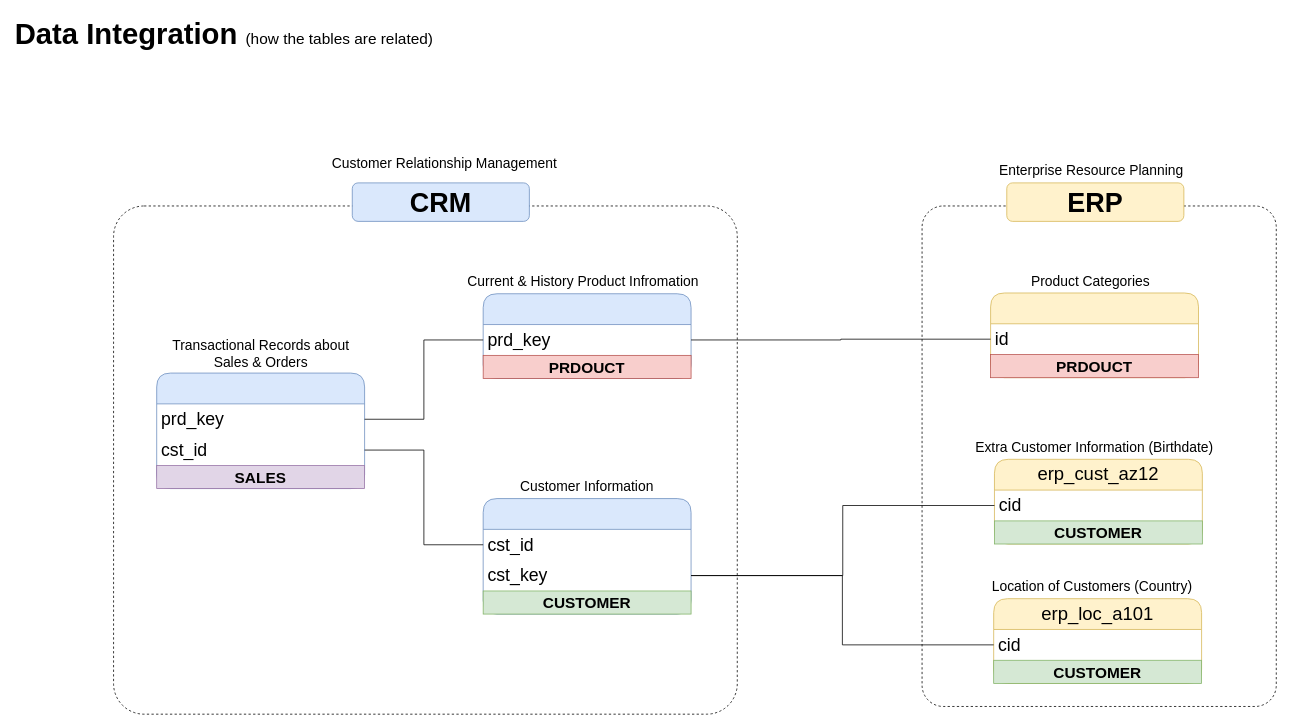
Image size: 1290x728. Some labels were removed from this diagram. The shapes that lost their labels are listed below. From the top down, each one's box as (x1, y1, x2, y2) in pixels, then its label:
(482, 293, 691, 378): crm_prd_info
(990, 292, 1199, 378): erp_px_cat_g1v2
(156, 372, 365, 489): crm_sales_details
(482, 498, 691, 614): crm_cust_info
